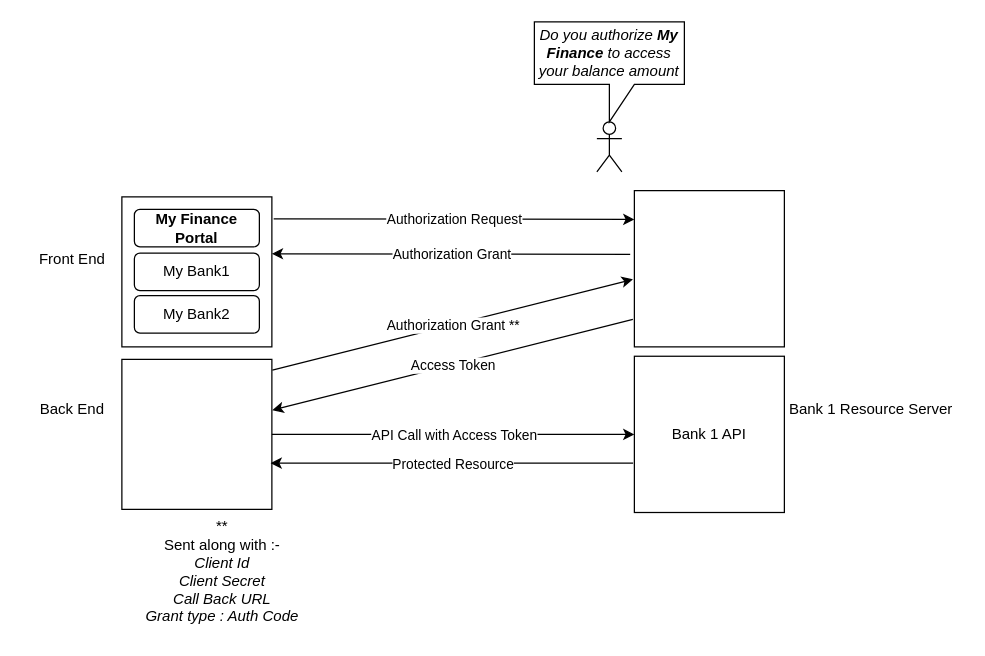
This 985x656 diagram has some shape labels left out. The shapes that lost their labels are listed below. From the top down, each one's centre as x and y in pixels, then its label:
point (609, 146): User
point (708, 268): Bank 1 Auth Server
point (196, 433): My Finance Api Client
